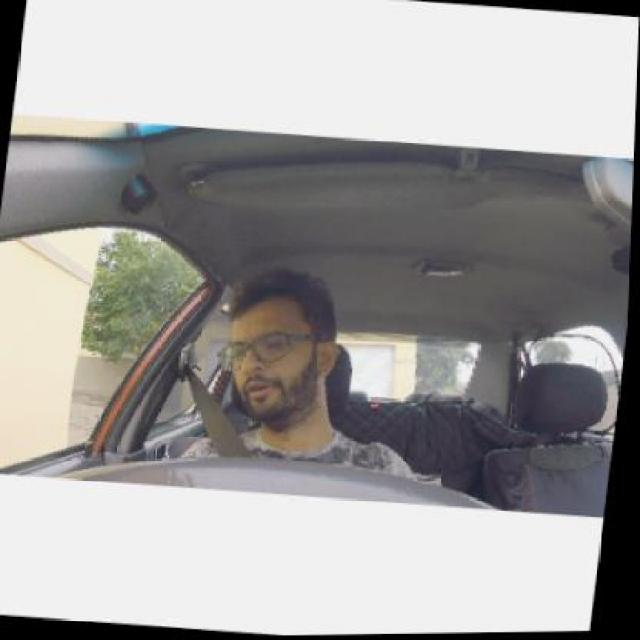drowsy: (217, 266, 345, 429)
